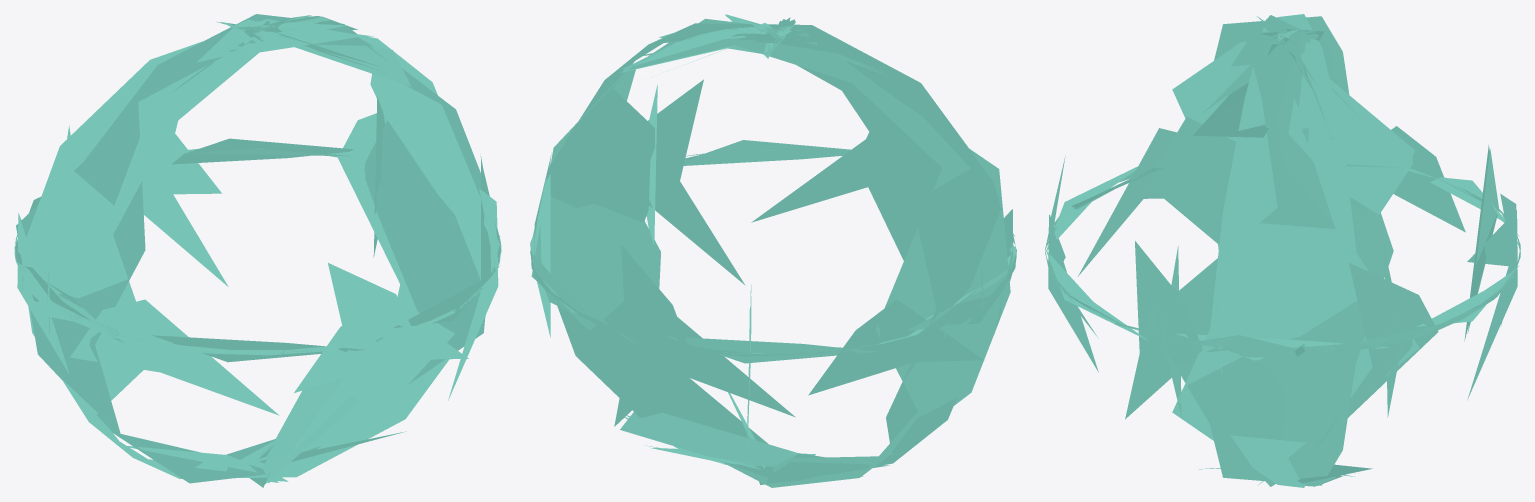
File: fenders.glb
The picture shows the model from 3 angles, left to right: view 1: azimuth 30°, elevation 25°; view 2: azimuth 150°, elevation 25°; view 3: azimuth 270°, elevation 25°; orthographic projection. The views are drawn at different scales.
Parts seen in each view (by area): view 1: fenders; view 2: fenders; view 3: fenders.
Part boxes in pixels (left/top/right/bottom): fenders: left=14, top=14, right=501, bottom=487; fenders: left=530, top=14, right=1016, bottom=487; fenders: left=1045, top=14, right=1520, bottom=487.
Size of the model in its own units: 2 by 2 by 2.
